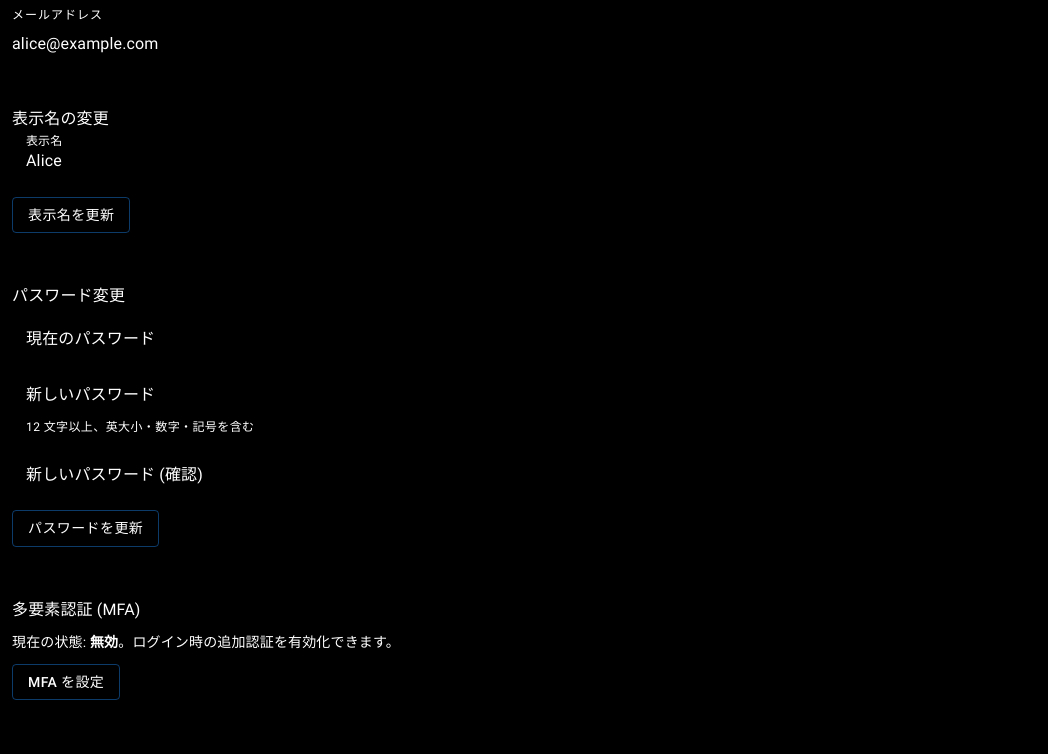
Test: ProfileScreen › blocks password change on weak / mismatched / empty fields
The image size is (1048, 754).
# All three fields untouched: should hit "現在のパスワード未入力" + weak new password
Step 1. Click the button "パスワードを更新" → [86, 529], box [12,510,159,547]
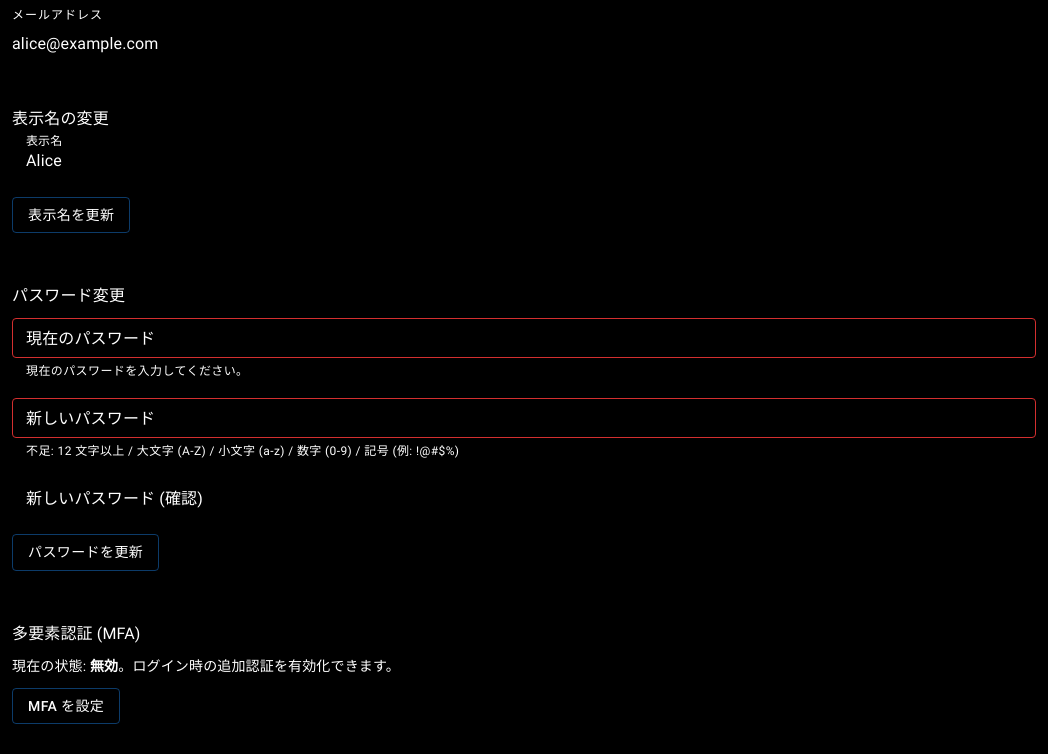
Expected: the text "12 文字以上" is shown, [26,444,459,458]
Now the text "現在のパスワードを入力してください。" is shown, box [26,364,248,378]
